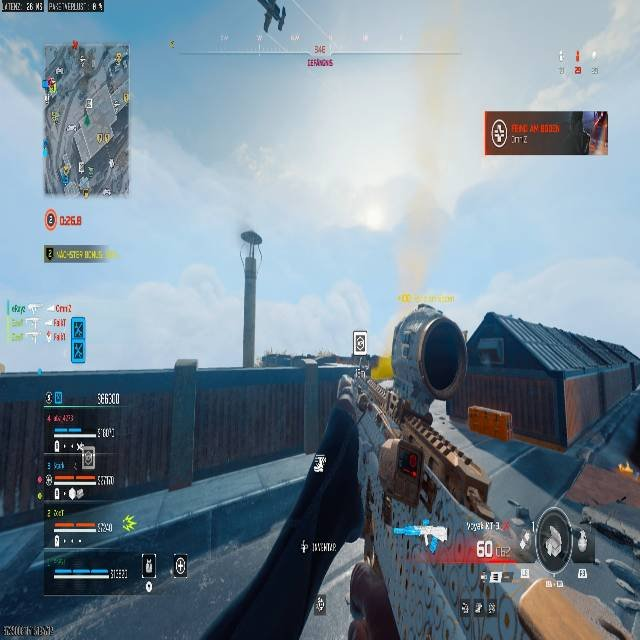head: (336, 374, 354, 399)
